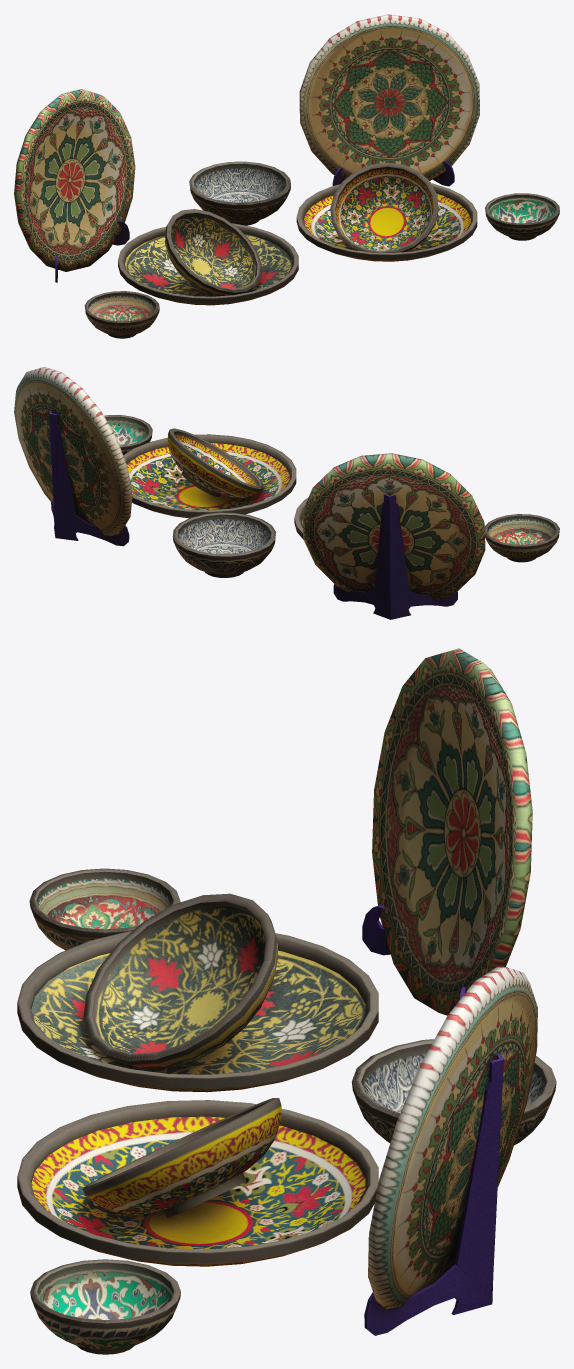
The model's file is Museum_Displaytable_Props_01.FBX.
3 views of the same model, one above another, from view 1: azimuth 30°, elevation 25°; view 2: azimuth 150°, elevation 25°; view 3: azimuth 270°, elevation 25° (orthographic). The views are drawn at different scales.
Visible parts, largest first — view 1: Museum_Displaytable_Props_01; view 2: Museum_Displaytable_Props_01; view 3: Museum_Displaytable_Props_01.
Boxes of the visible parts, <box> form: Museum_Displaytable_Props_01: <box>14,14,559,338</box>; Museum_Displaytable_Props_01: <box>14,367,559,619</box>; Museum_Displaytable_Props_01: <box>17,648,556,1354</box>.
Size of the model in its own units: 952 by 319 by 475.
Materials: 1 (1 with a texture image).
